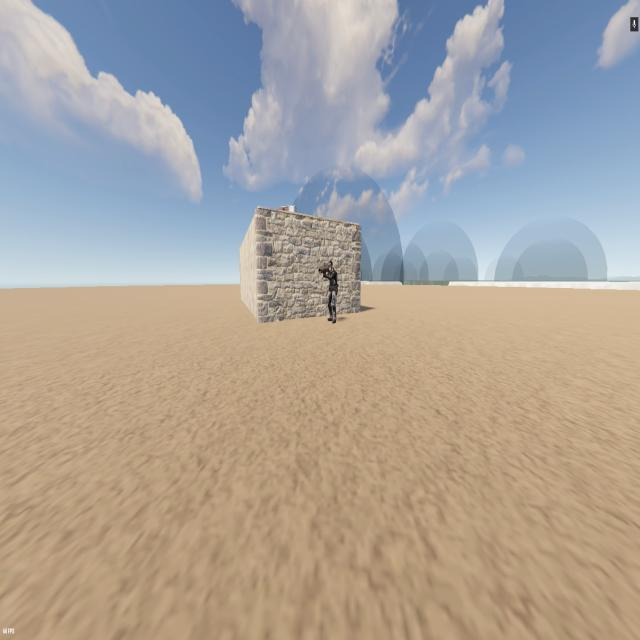Player: (325, 257, 339, 326)
